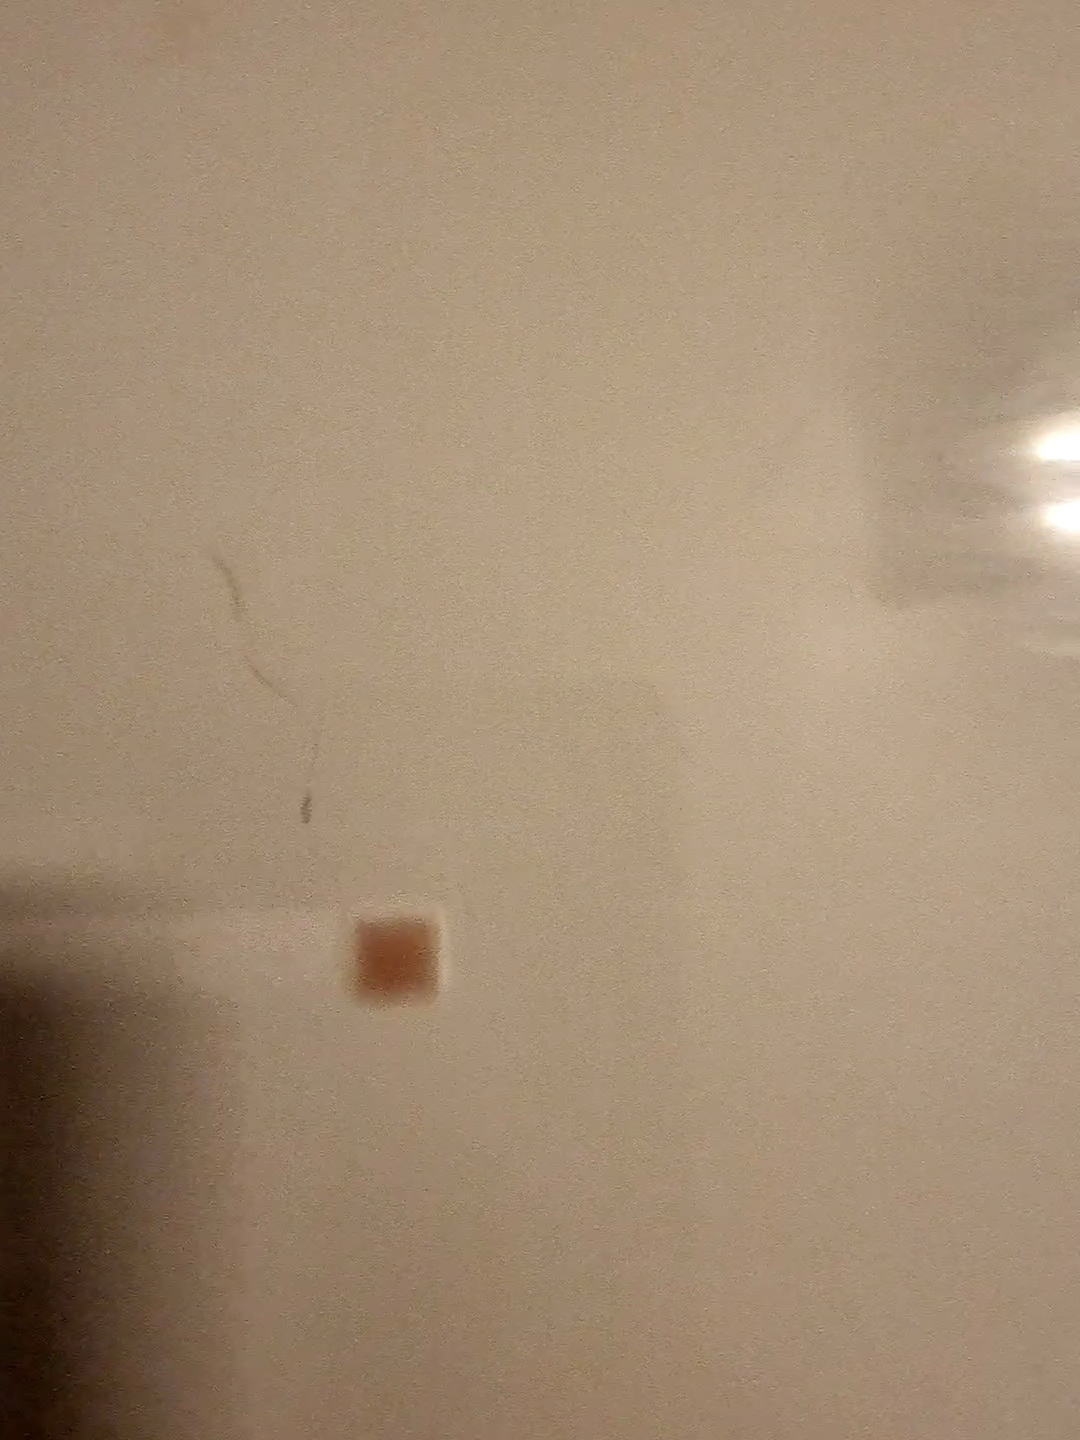keto-tip: (346, 910, 452, 1016)
